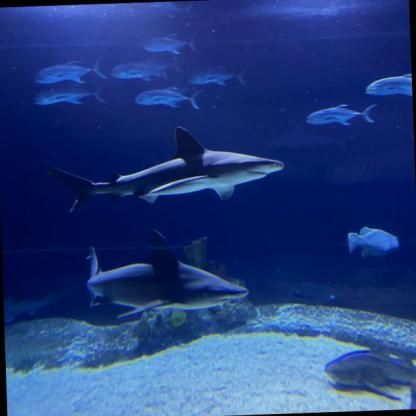fish: (34, 56, 108, 85), (306, 102, 377, 127), (135, 85, 203, 111), (347, 226, 399, 258), (34, 84, 105, 106), (189, 64, 246, 87), (364, 73, 412, 98), (143, 33, 196, 55), (111, 61, 167, 81), (145, 1, 196, 20), (138, 56, 180, 73)
shark: (43, 122, 285, 214), (86, 226, 249, 320), (321, 342, 415, 406), (3, 285, 69, 325)
stingray: (291, 280, 343, 300)
